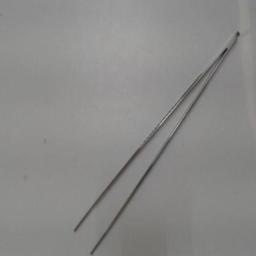DeBakey Dissector: (72, 22, 244, 254)
